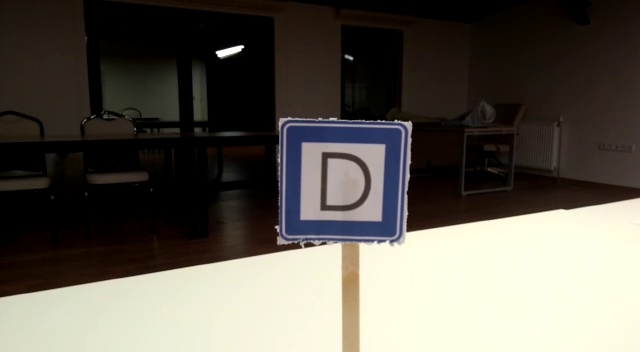durak: (277, 123, 408, 244)
